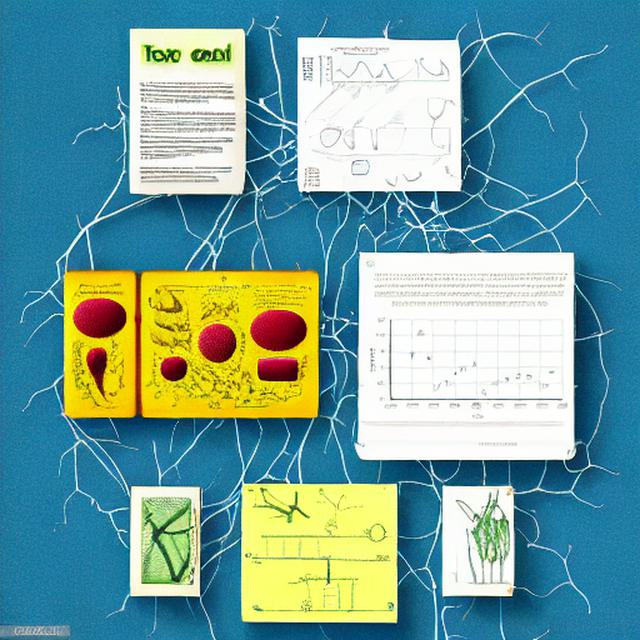Graph: (365, 298, 571, 419), (318, 45, 403, 102)
